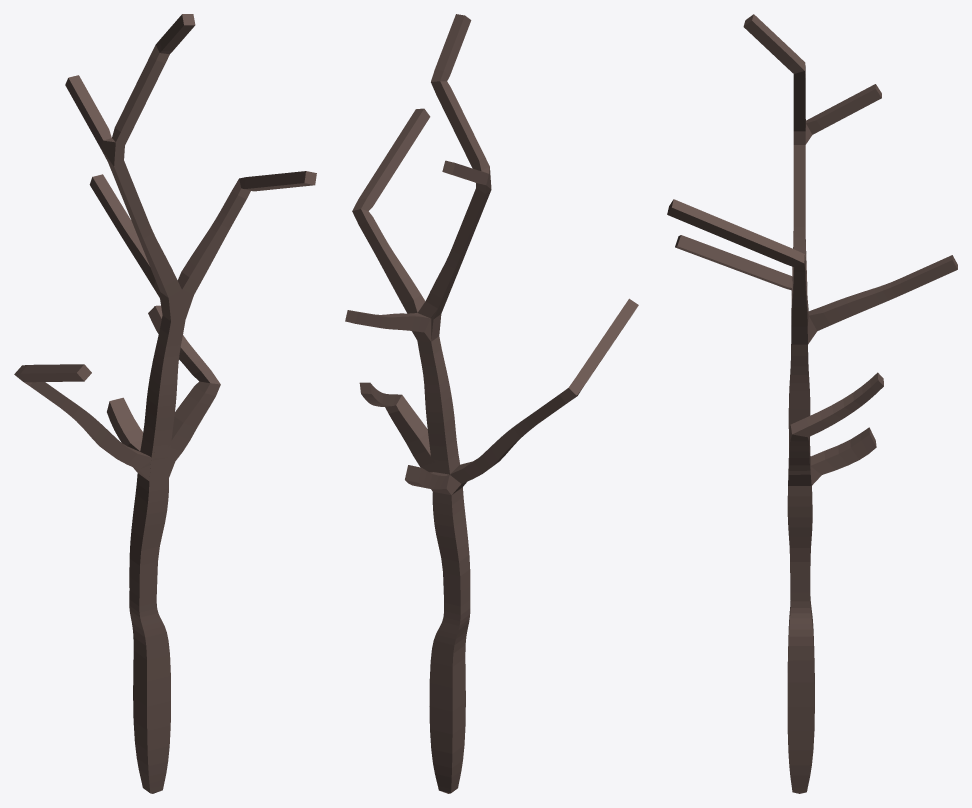
File: DeadTree1.fbx
3 views of the same model, side by side, from view 1: azimuth 30°, elevation 25°; view 2: azimuth 150°, elevation 25°; view 3: azimuth 270°, elevation 25° (orthographic). The views are drawn at different scales.
Visible parts, largest first — view 1: Plane; view 2: Plane; view 3: Plane.
Part boxes in pixels (bbox=[...]): Plane: bbox=[14, 14, 316, 793]; Plane: bbox=[345, 14, 638, 793]; Plane: bbox=[667, 14, 957, 793].
Size of the model in its own units: 230 by 739 by 249.
